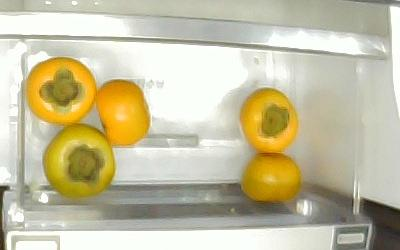persimmon: (41, 121, 115, 199), (24, 55, 97, 125), (93, 77, 152, 147), (238, 86, 299, 153), (239, 152, 301, 205)
